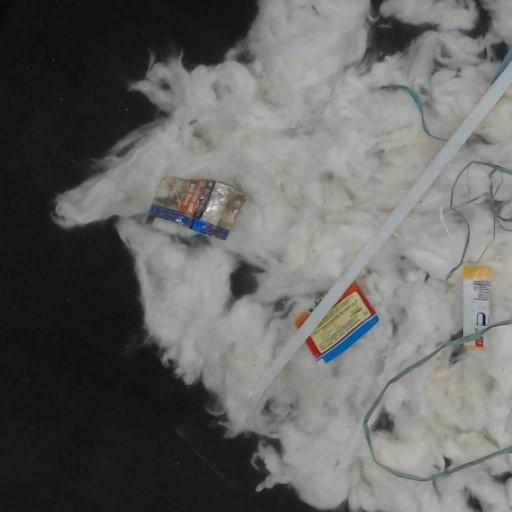cotton: (56, 0, 511, 511), (369, 324, 511, 474)
packet: (148, 177, 245, 239), (306, 282, 378, 362), (463, 266, 491, 335)
thread: (252, 47, 511, 412), (363, 320, 511, 480), (448, 161, 511, 278), (380, 84, 445, 141)
